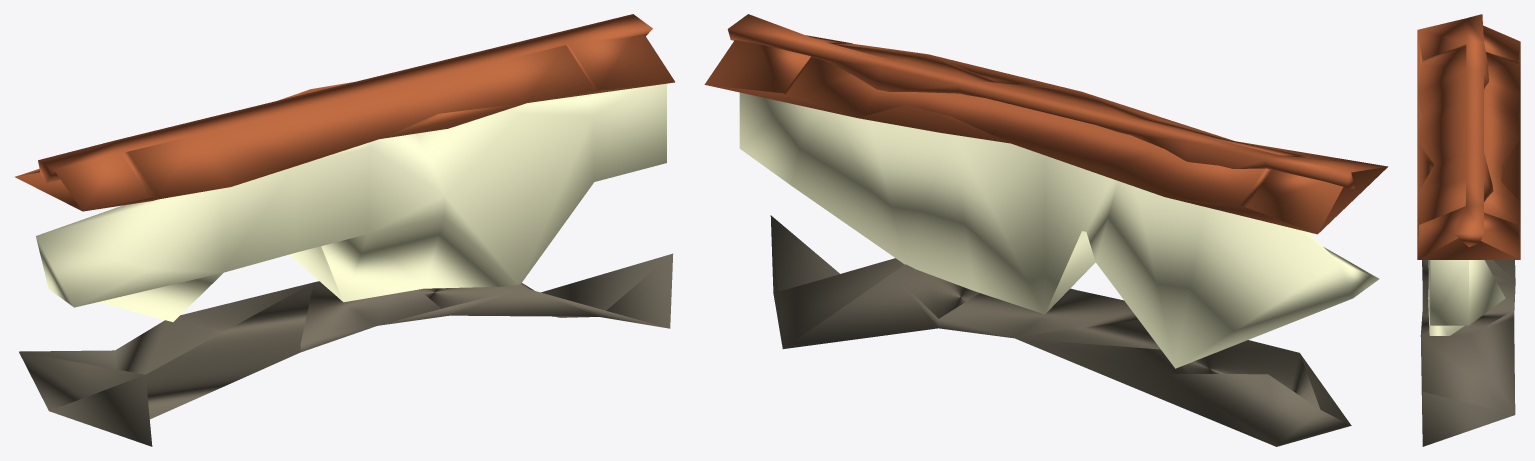
The model's file is decor_garden-wall_t1_plaster.glb.
3 renders of one model, left to right at view 1: azimuth 30°, elevation 25°; view 2: azimuth 150°, elevation 25°; view 3: azimuth 270°, elevation 25°, orthographic. The views are drawn at different scales.
Parts seen in each view (by area): view 1: plaster, terracotta, stone_dark; view 2: plaster, terracotta, stone_dark; view 3: terracotta, stone_dark, plaster.
Boxes of the visible parts, left/top/right/bottom form: plaster: left=36, top=83, right=666, bottom=321; terracotta: left=15, top=14, right=674, bottom=211; stone_dark: left=19, top=253, right=673, bottom=446; plaster: left=739, top=92, right=1379, bottom=368; terracotta: left=704, top=14, right=1388, bottom=234; stone_dark: left=770, top=215, right=1351, bottom=446; terracotta: left=1417, top=14, right=1520, bottom=259; stone_dark: left=1420, top=260, right=1515, bottom=446; plaster: left=1428, top=260, right=1505, bottom=335.
Size of the model in its own units: 2.01 by 0.9162 by 0.4.
